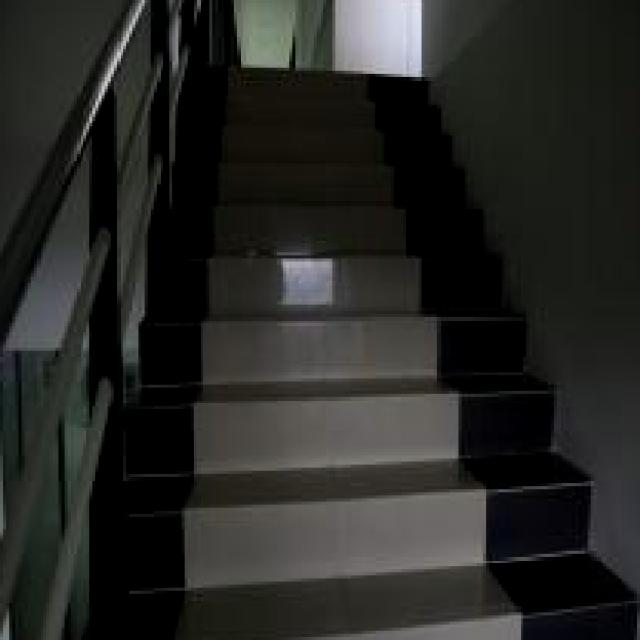upstair: (204, 75, 450, 640)
